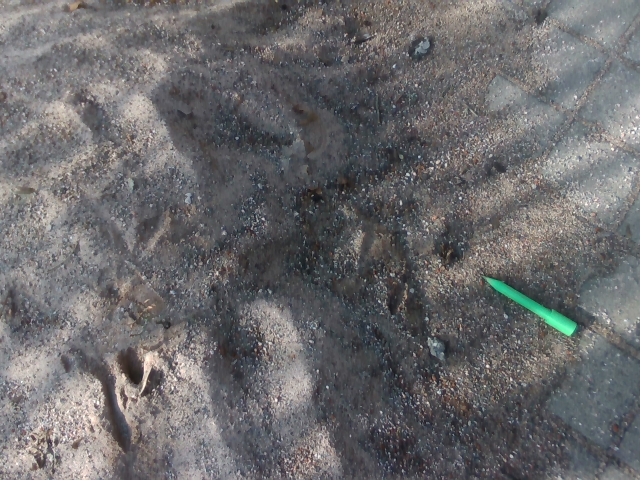Probe: (477, 270, 581, 339)
